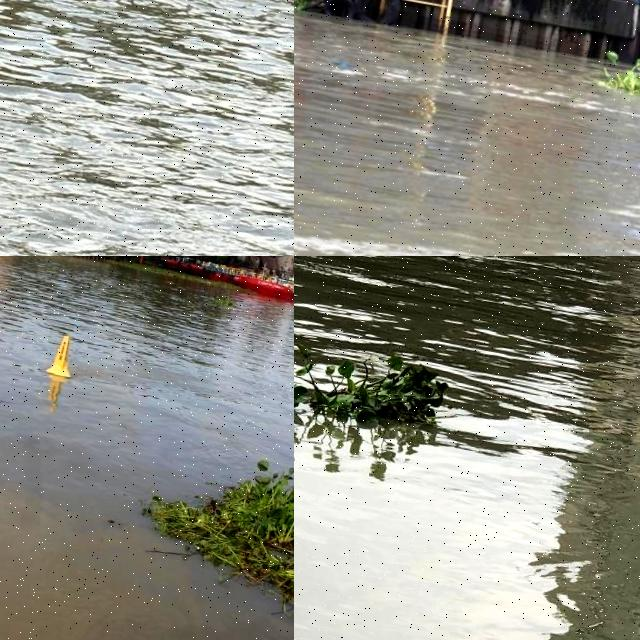water-hyacinth: (140, 447, 295, 618), (295, 307, 458, 448), (593, 48, 640, 108)
